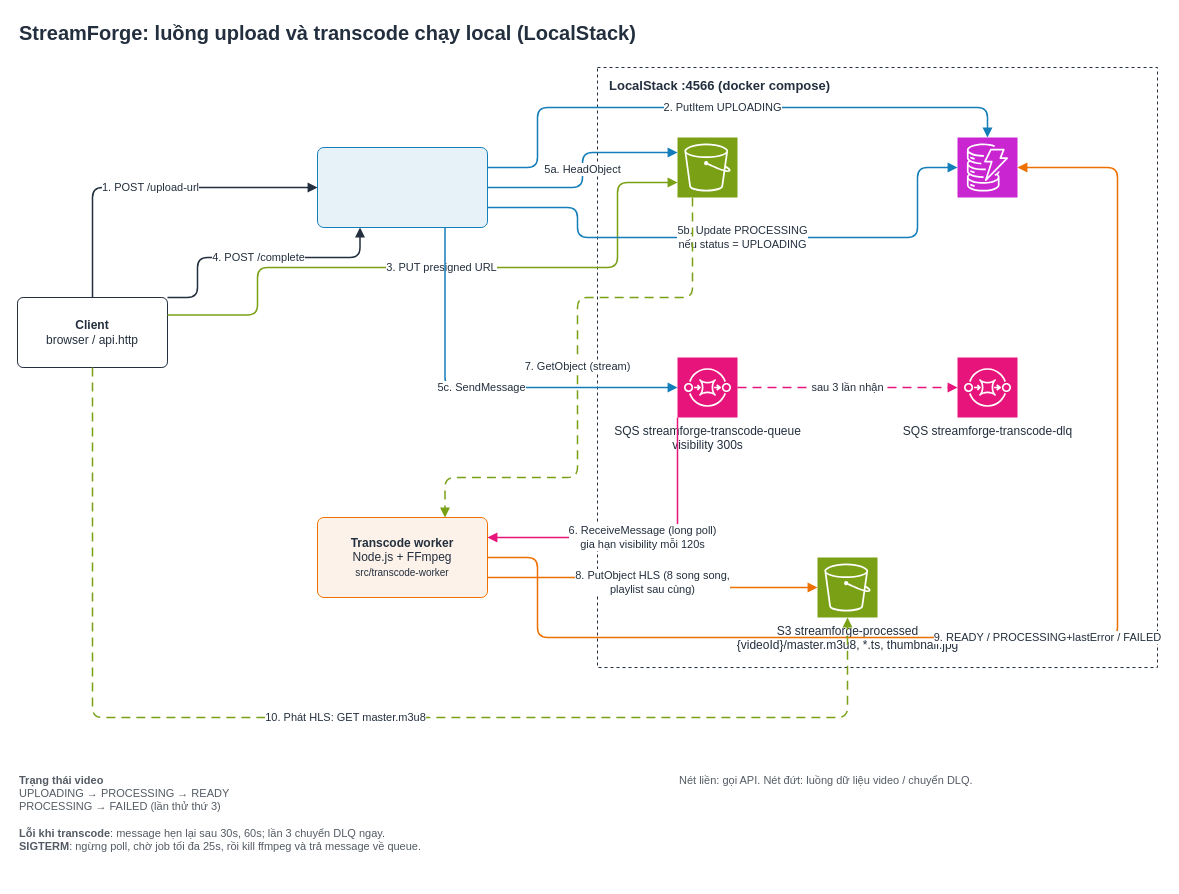
Image size: 1179x894. Some labels were removed from this diagram. The shapes that lost their labels are listed below. From the top down, each one's centre as x and y in pixels, then its label:
At point 402,187: "API Express :4000 src/api".
At point 707,167: "S3 streamforge-raw-uploads raw/{videoId}/source.*".
At point 987,167: "DynamoDB streamforge-videos PK videoId".
